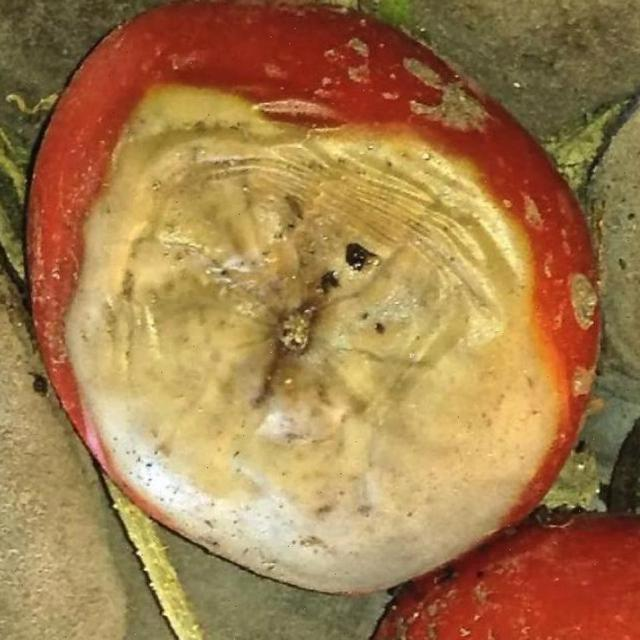Sunscald Fruit: (46, 54, 377, 396)
